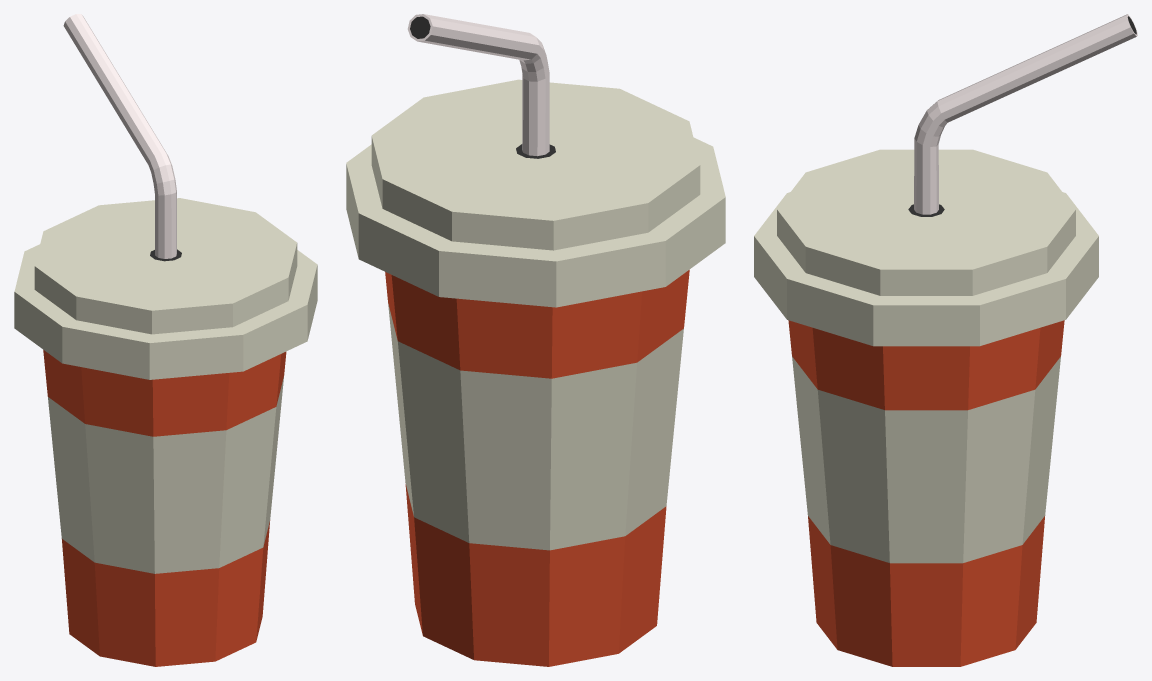
Rendered from Soda.glb.
3 renders of one model, left to right at view 1: azimuth 30°, elevation 25°; view 2: azimuth 150°, elevation 25°; view 3: azimuth 270°, elevation 25°, orthographic. The views are drawn at different scales.
Parts seen in each view (by area): view 1: Soda; view 2: Soda; view 3: Soda.
Part boxes in pixels (<box>): Soda: <box>14,14,317,666</box>; Soda: <box>346,14,725,666</box>; Soda: <box>754,14,1137,666</box>.
Bounding box in the file's own units: 1.21 × 2.47 × 1.41.
Materials: 1 (1 with a texture image).
